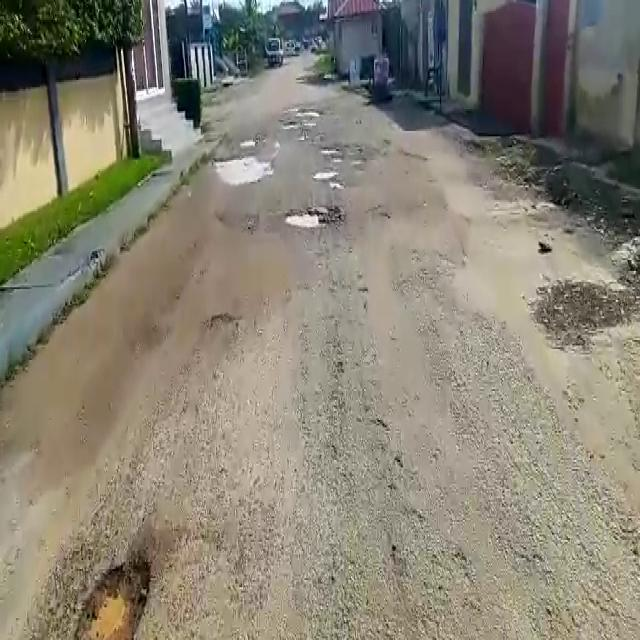Pothole: (73, 559, 156, 640), (215, 151, 270, 184), (275, 205, 334, 229), (319, 143, 350, 156), (314, 172, 343, 184)
